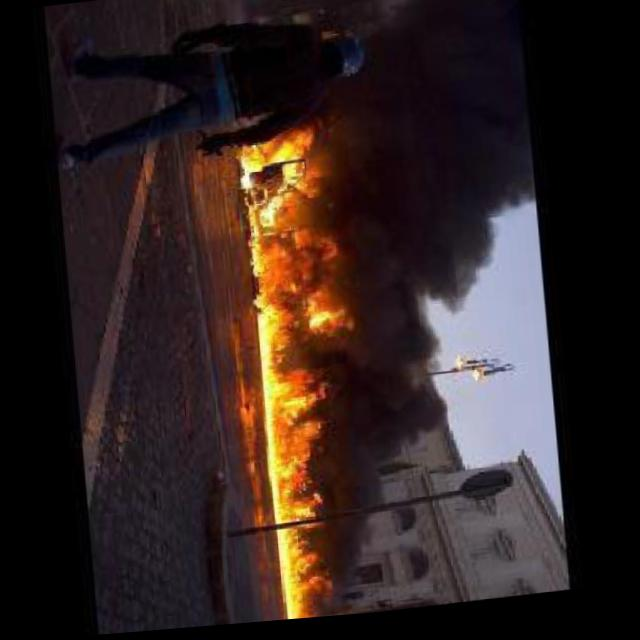Fire: (289, 48, 559, 590), (239, 111, 384, 625)
